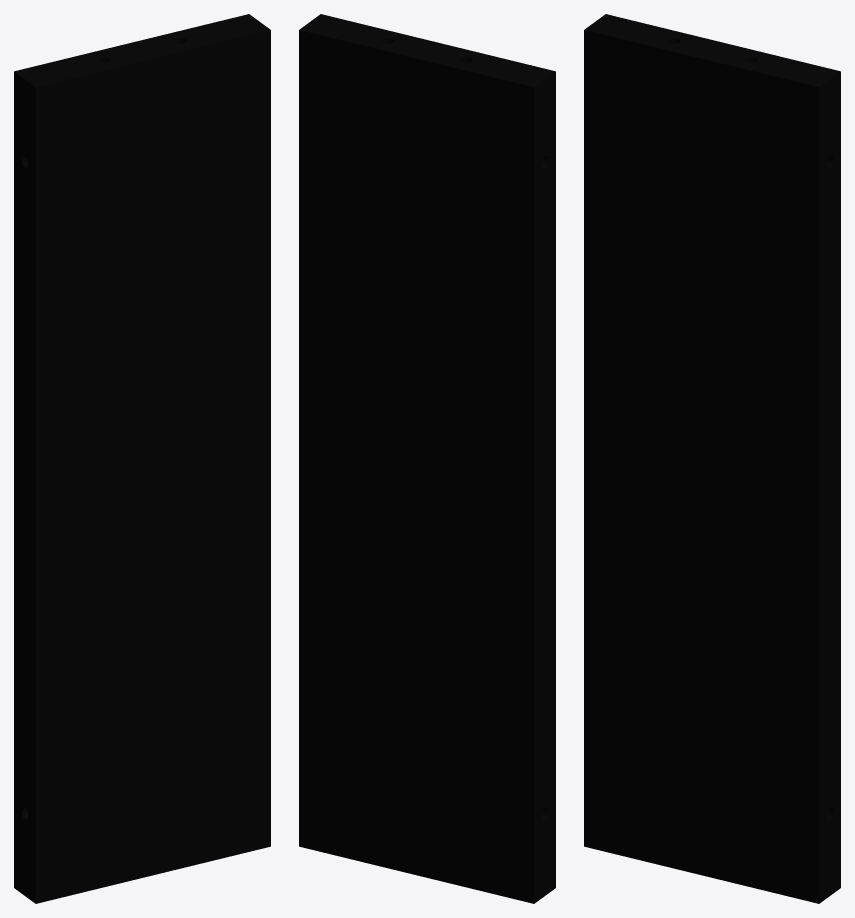
The model's file is Panel_125x415_UV.glb.
The picture shows the model from 3 angles, left to right: view 1: azimuth 30°, elevation 25°; view 2: azimuth 150°, elevation 25°; view 3: azimuth 330°, elevation 25°; orthographic projection.
Visible parts, largest first — view 1: Panel_125x415; view 2: Panel_125x415; view 3: Panel_125x415.
Part boxes in pixels (left/top/right/bottom): Panel_125x415: left=14, top=14, right=270, bottom=903; Panel_125x415: left=299, top=14, right=555, bottom=903; Panel_125x415: left=584, top=14, right=840, bottom=903.
Bounding box in the file's own units: 0.125 × 0.415 × 0.02.
Materials: 1 (1 with a texture image).
